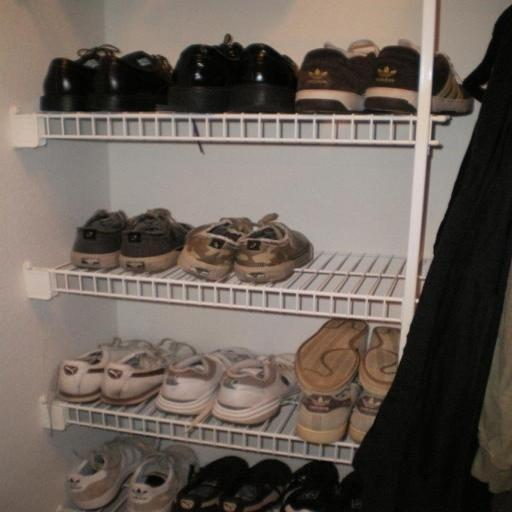shoe: (296, 318, 368, 444), (365, 39, 473, 115), (155, 347, 257, 415), (162, 34, 243, 113), (67, 436, 153, 510), (100, 339, 195, 405), (212, 353, 298, 425), (295, 40, 379, 113), (348, 326, 400, 443), (57, 338, 151, 402), (296, 319, 369, 394), (40, 44, 120, 112), (234, 214, 314, 282), (88, 51, 173, 112), (126, 444, 199, 512), (229, 43, 298, 113), (178, 218, 254, 280), (119, 208, 192, 272), (172, 456, 249, 512), (296, 382, 359, 444), (220, 459, 292, 512), (70, 210, 128, 268), (280, 460, 339, 512), (358, 326, 400, 397), (348, 389, 384, 444), (329, 471, 363, 512)
